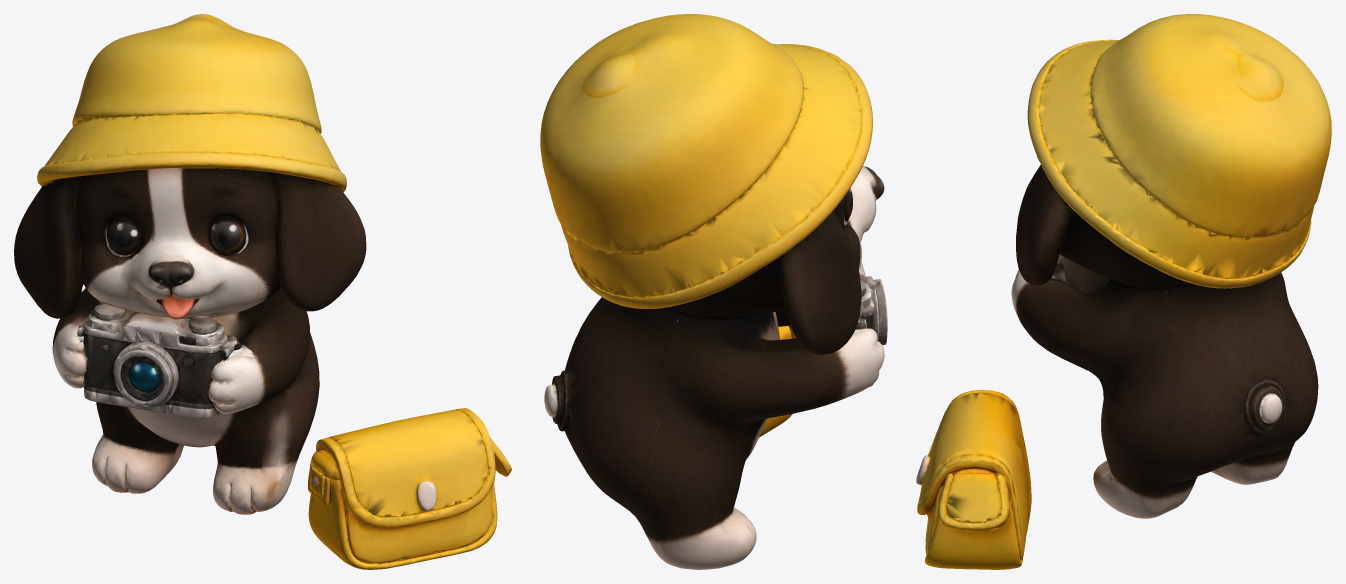
File: model-mobile-v001.glb
The picture shows the model from 3 angles, left to right: view 1: azimuth 30°, elevation 25°; view 2: azimuth 150°, elevation 25°; view 3: azimuth 270°, elevation 25°; orthographic projection. The views are drawn at different scales.
Parts seen in each view (by area): view 1: tmpyv4_exomobj; view 2: tmpyv4_exomobj; view 3: tmpyv4_exomobj.
Part boxes in pixels (box(x1,y1,x2,y2)): tmpyv4_exomobj: box(14, 14, 511, 569); tmpyv4_exomobj: box(540, 14, 887, 569); tmpyv4_exomobj: box(916, 14, 1331, 569).
Bounding box in the file's own units: 0.7981 × 1 × 0.8138.
1 material, 1 textured.
